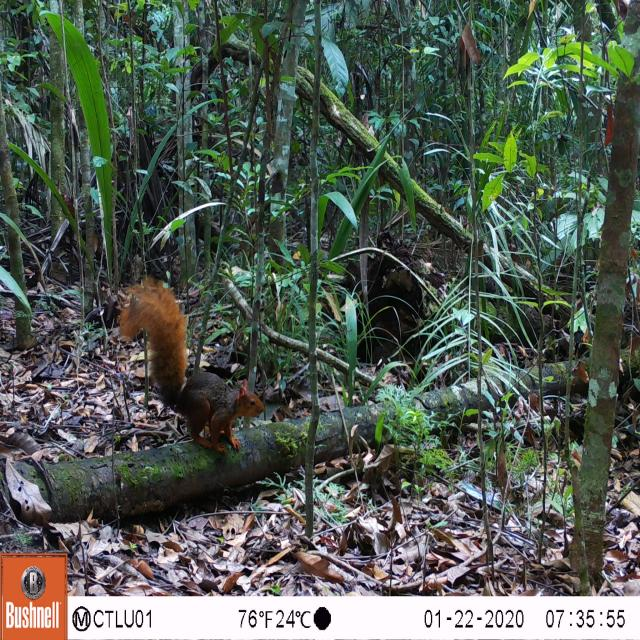Squirrel: (111, 267, 277, 467)
